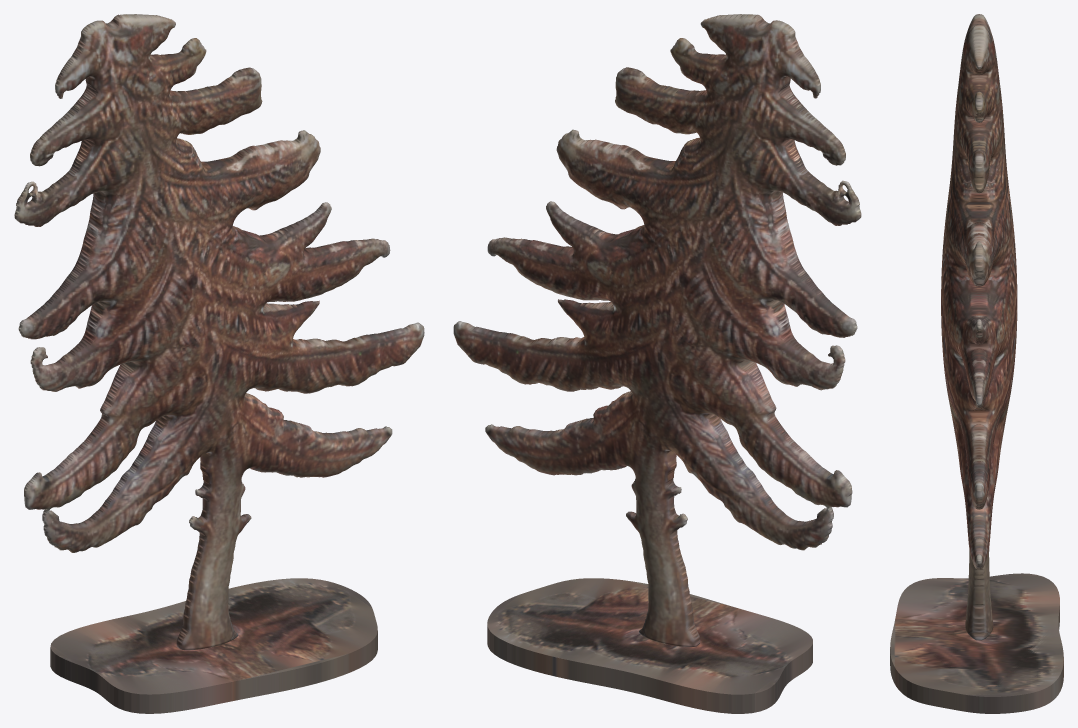
Rendered from Nadelbaum_29319.27_v2.glb.
3 views of the same model, side by side, from view 1: azimuth 30°, elevation 25°; view 2: azimuth 150°, elevation 25°; view 3: azimuth 270°, elevation 25° (orthographic). The views are drawn at different scales.
Parts seen in each view (by area): view 1: Nadelbaum, Sockel; view 2: Nadelbaum, Sockel; view 3: Nadelbaum, Sockel.
Part boxes in pixels (left/top/right/bottom): Nadelbaum: left=14, top=14, right=424, bottom=650; Sockel: left=50, top=578, right=377, bottom=713; Nadelbaum: left=453, top=14, right=861, bottom=646; Sockel: left=487, top=578, right=812, bottom=713; Nadelbaum: left=941, top=14, right=1017, bottom=640; Sockel: left=890, top=573, right=1063, bottom=713.
Bounding box in the file's own units: 0.0661 × 0.103 × 0.0278.
Materials: 2 (2 with a texture image).
